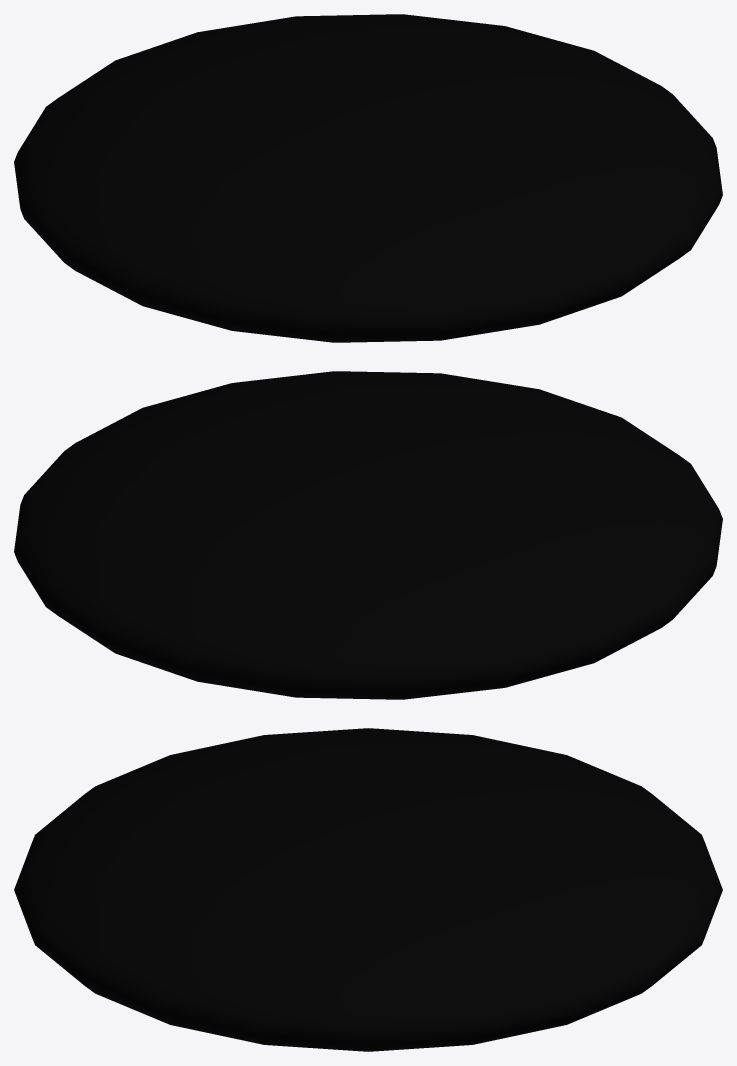
File: MapBiscuitFbx.fbx
3 renders of one model, top to bottom at view 1: azimuth 30°, elevation 25°; view 2: azimuth 150°, elevation 25°; view 3: azimuth 270°, elevation 25°, orthographic.
Parts seen in each view (by area): view 1: pSphere32; view 2: pSphere32; view 3: pSphere32.
Part boxes in pixels (x1,y1,x2,y2): pSphere32: (14, 14, 722, 342); pSphere32: (14, 371, 722, 699); pSphere32: (14, 728, 722, 1051).
Bounding box in the file's own units: 7.79 × 1.71 × 7.87.
